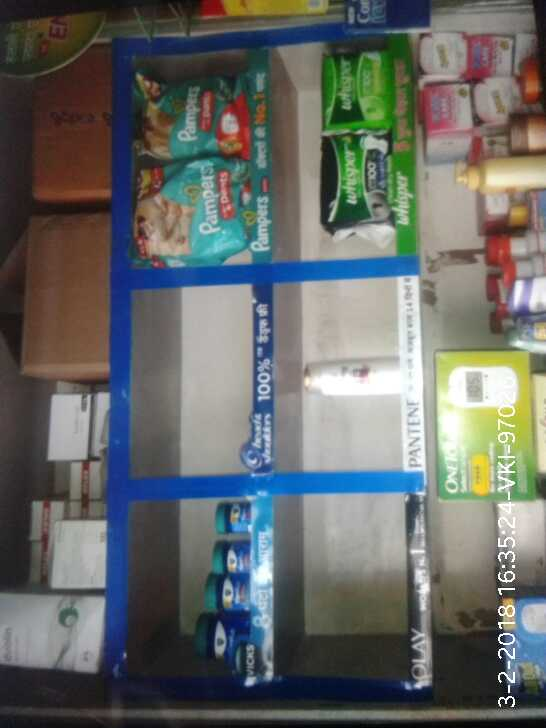vicks: (188, 494, 264, 669)
